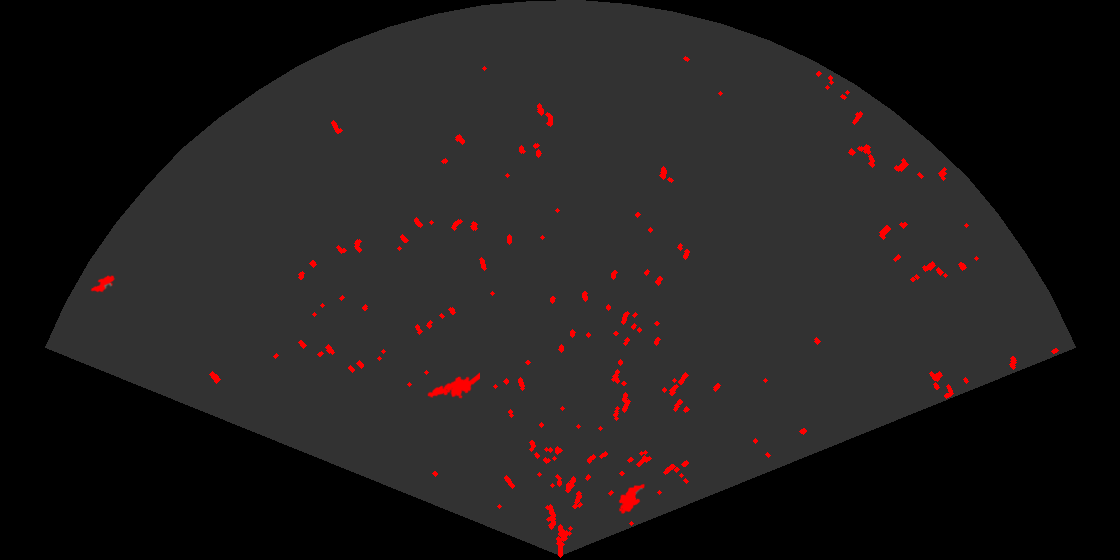AUV: (617, 482, 647, 516), (89, 274, 117, 295)
frogman: (426, 371, 480, 400)
